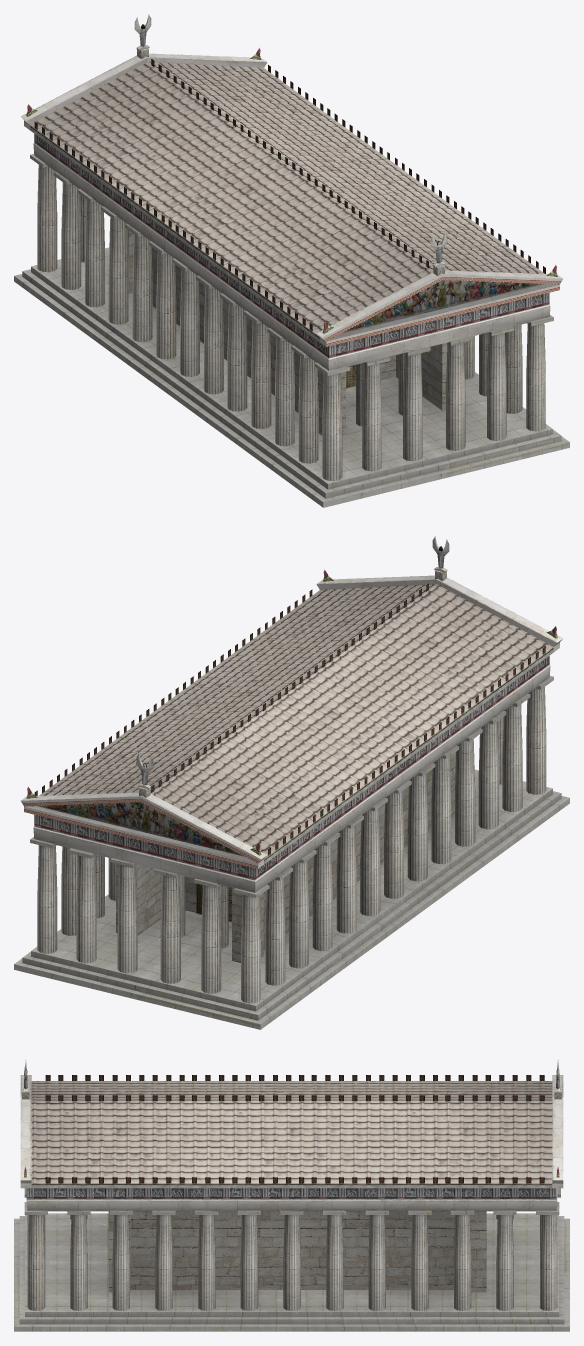
File: ruins.glb
3 views of the same model, one above another, from view 1: azimuth 30°, elevation 25°; view 2: azimuth 150°, elevation 25°; view 3: azimuth 270°, elevation 25° (orthographic). The views are drawn at different scales.
Visible parts, largest first — view 1: ruins_part3, ruins_part2, ruins_part1, ruins_part0, ruins_part4, ruins_part5; view 2: ruins_part3, ruins_part2, ruins_part1, ruins_part0, ruins_part4, ruins_part5; view 3: ruins_part3, ruins_part1, ruins_part2, ruins_part4, ruins_part0, ruins_part5.
Boxes of the visible parts, bbox=[...] form: ruins_part3: bbox=[30, 62, 544, 342]; ruins_part2: bbox=[26, 14, 557, 480]; ruins_part1: bbox=[14, 154, 569, 507]; ruins_part0: bbox=[21, 53, 562, 370]; ruins_part4: bbox=[127, 230, 447, 435]; ruins_part5: bbox=[34, 59, 545, 330]; ruins_part3: bbox=[39, 584, 553, 864]; ruins_part2: bbox=[26, 536, 557, 1003]; ruins_part1: bbox=[14, 676, 569, 1029]; ruins_part0: bbox=[21, 575, 562, 892]; ruins_part4: bbox=[116, 752, 455, 962]; ruins_part5: bbox=[34, 583, 545, 855]; ruins_part3: bbox=[31, 1081, 552, 1188]; ruins_part1: bbox=[14, 1188, 569, 1331]; ruins_part2: bbox=[22, 1059, 561, 1310]; ruins_part4: bbox=[108, 1211, 486, 1292]; ruins_part0: bbox=[20, 1075, 563, 1211]; ruins_part5: bbox=[45, 1075, 544, 1183].
Size of the model in its own units: 1.15 by 1.07 by 2.5.
5 materials, 5 textured.
